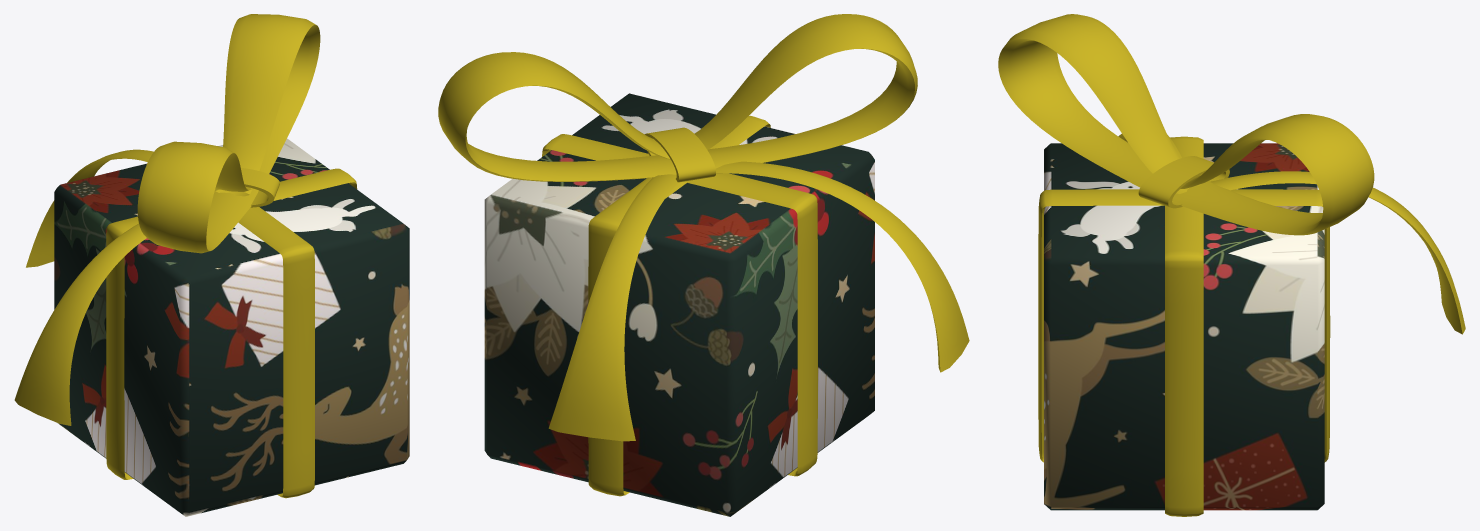
The model's file is christmas_gift.glb.
The picture shows the model from 3 angles, left to right: view 1: azimuth 30°, elevation 25°; view 2: azimuth 150°, elevation 25°; view 3: azimuth 270°, elevation 25°; orthographic projection. The views are drawn at different scales.
Parts seen in each view (by area): view 1: Cube; view 2: Cube; view 3: Cube.
Boxes of the visible parts, left/top/right/bottom form: Cube: left=14, top=14, right=409, bottom=516; Cube: left=438, top=14, right=969, bottom=516; Cube: left=998, top=14, right=1465, bottom=516.
Bounding box in the file's own units: 3.34 × 3.02 × 3.33.
1 material, 1 textured.
